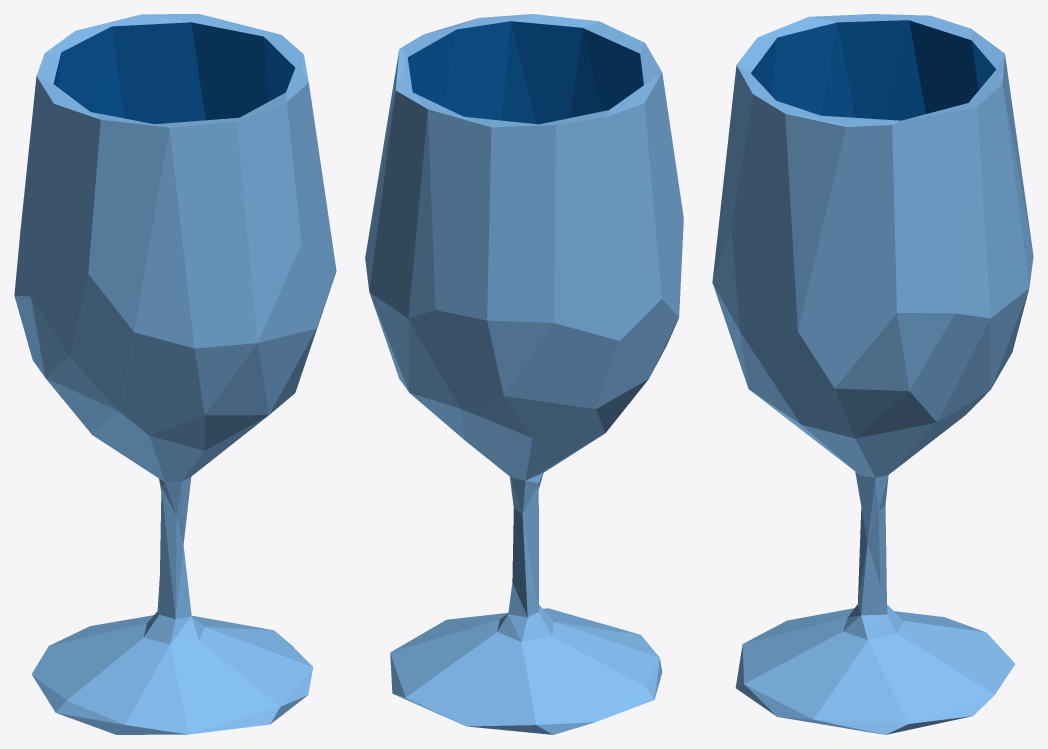
Rendered from WineGlass01.fbx.
The picture shows the model from 3 angles, left to right: view 1: azimuth 30°, elevation 25°; view 2: azimuth 150°, elevation 25°; view 3: azimuth 270°, elevation 25°; orthographic projection.
Visible parts, largest first — view 1: WineGlass01LowPoly; view 2: WineGlass01LowPoly; view 3: WineGlass01LowPoly.
Boxes of the visible parts, left/top/right/bottom form: WineGlass01LowPoly: left=14, top=14, right=336, bottom=734; WineGlass01LowPoly: left=365, top=14, right=683, bottom=734; WineGlass01LowPoly: left=712, top=14, right=1033, bottom=734.
Bounding box in the file's own units: 10.63 × 22.3 × 10.66.
